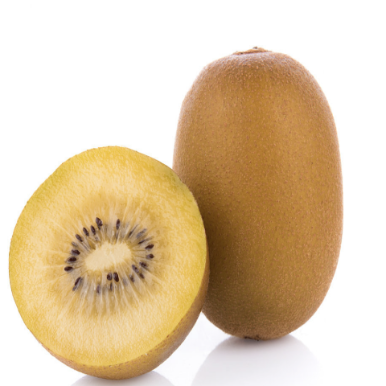kiwi: (144, 35, 376, 374)
